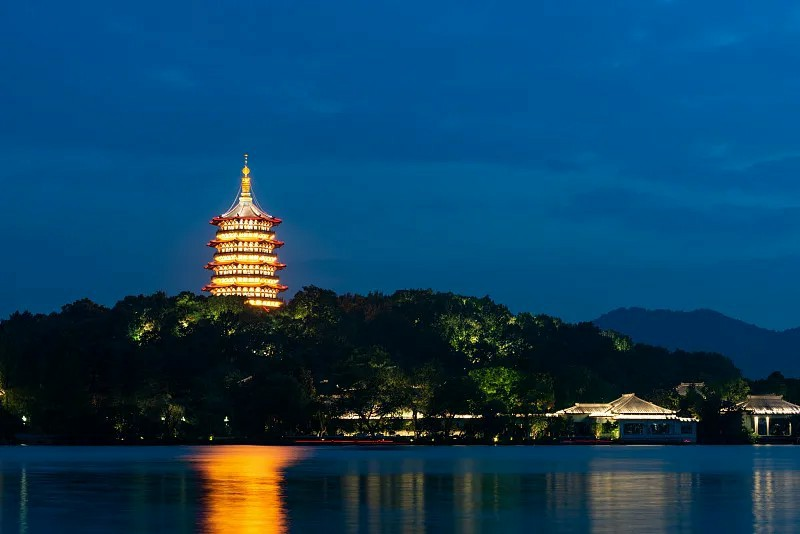Leifeng: (197, 150, 290, 312)
